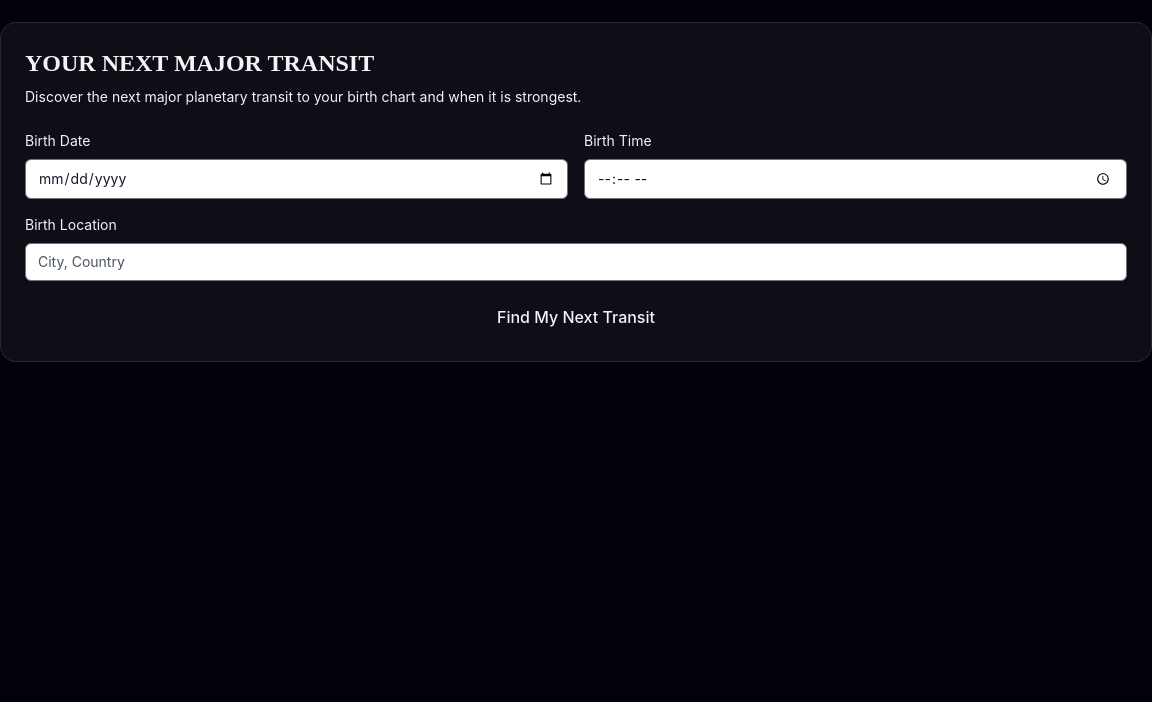
NamedTransitExplorer next-major-transit contract › renders the bounded result, premium CTA, and account actions
Type "1980-03-09" into the date field labelled "Birth Date".
click(296, 179); type("1980-03-09")  # box left=25, top=159, right=568, bottom=199
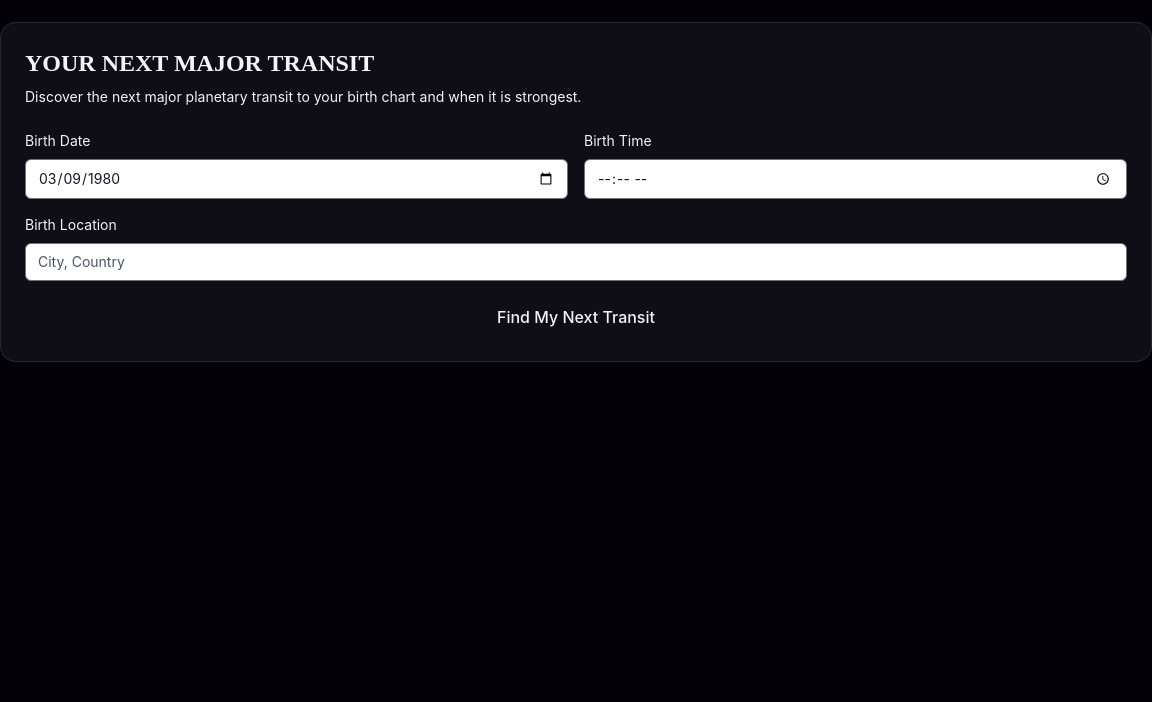
Type "16:21" into the time field labelled "Birth Time".
click(856, 179); type("16:21")  # box left=584, top=159, right=1127, bottom=199
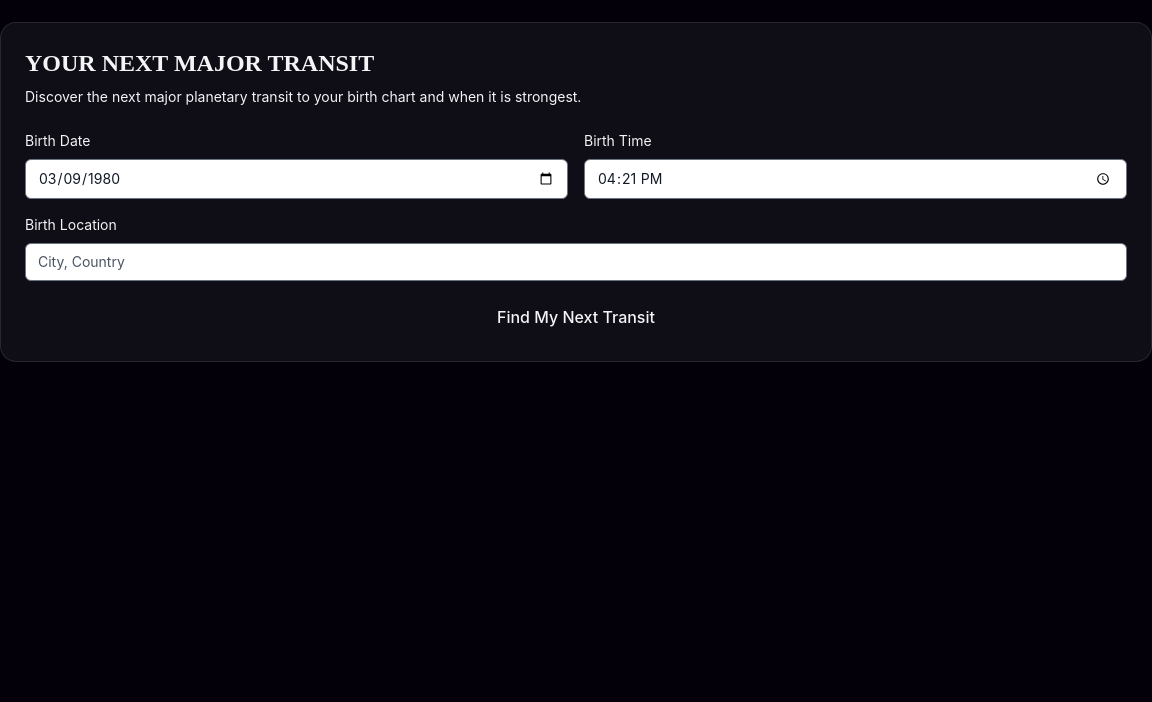
Type "Santa Cruz, CA" into the field labelled "Birth Location".
click(576, 262); type("Santa Cruz, CA")  # box left=25, top=243, right=1127, bottom=281
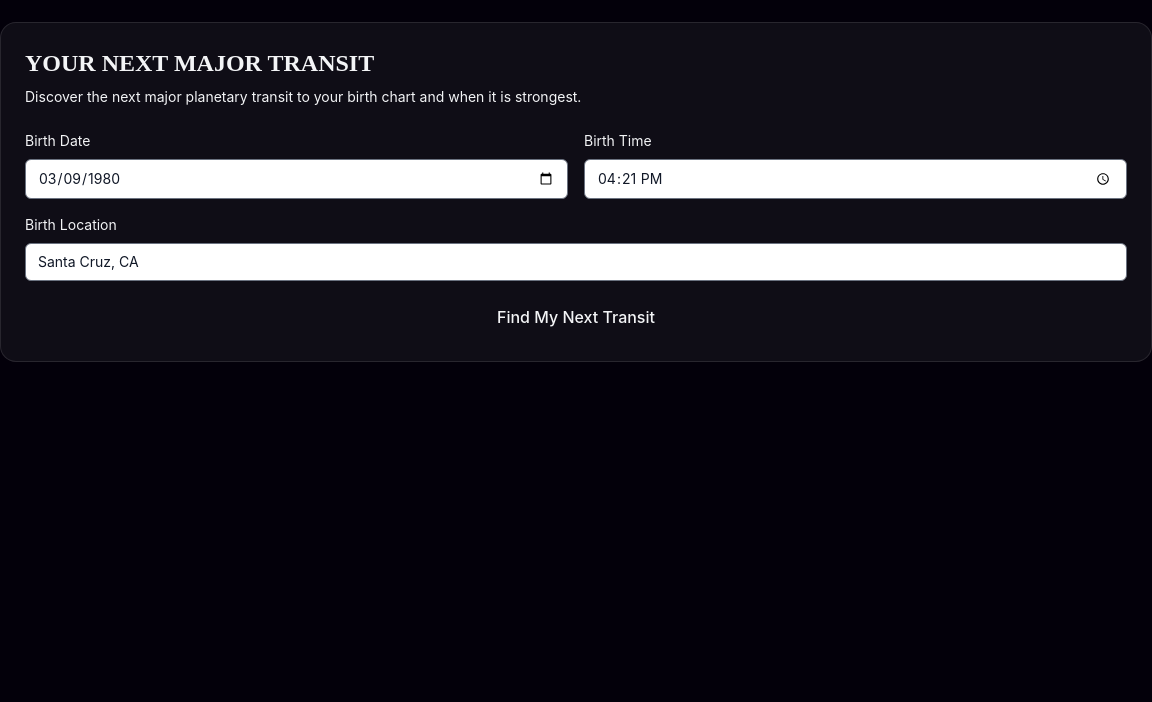
Click the button "Find My Next Transit".
click(576, 317)  # box left=25, top=297, right=1127, bottom=337
(page scrolled)
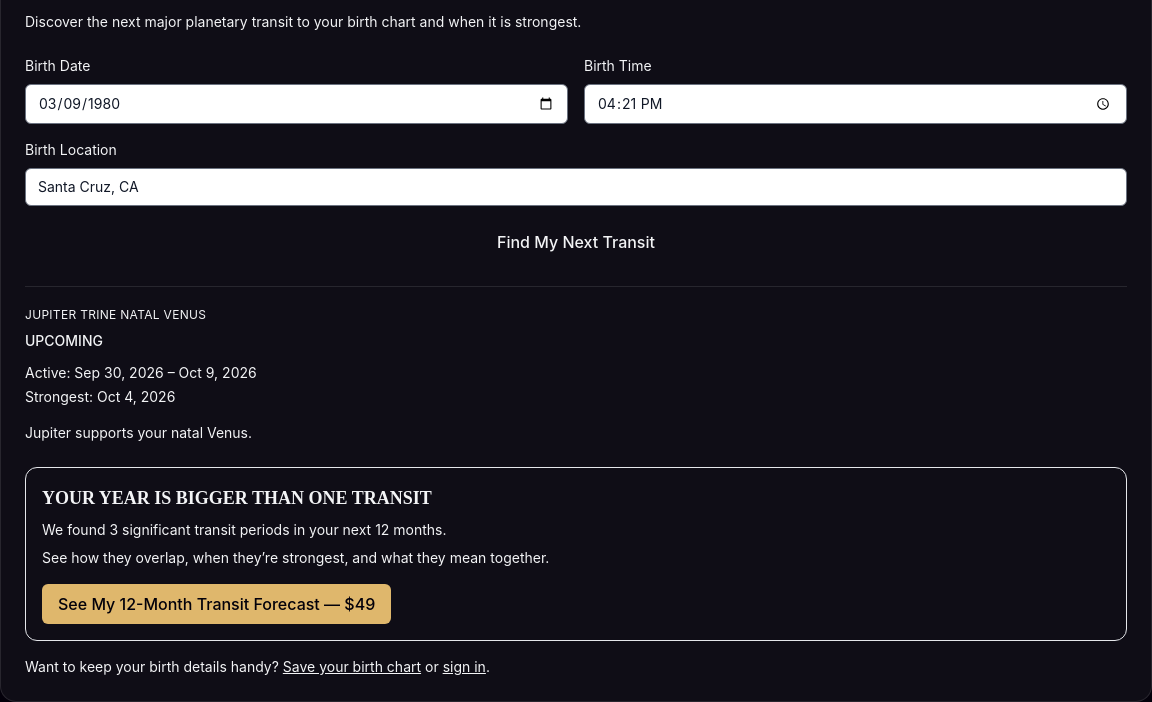
Expected: the text "Jupiter trine natal Venus" is shown, left=25, top=307, right=206, bottom=322
Expected: the text "We found 3 significant transit periods in your next 12 months." is shown, left=42, top=521, right=446, bottom=538
